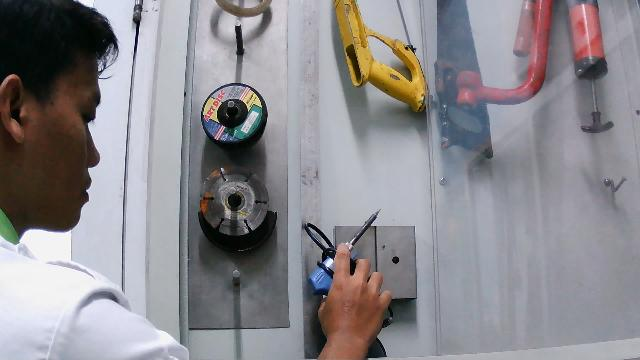solder_electrical: (293, 206, 403, 353)
